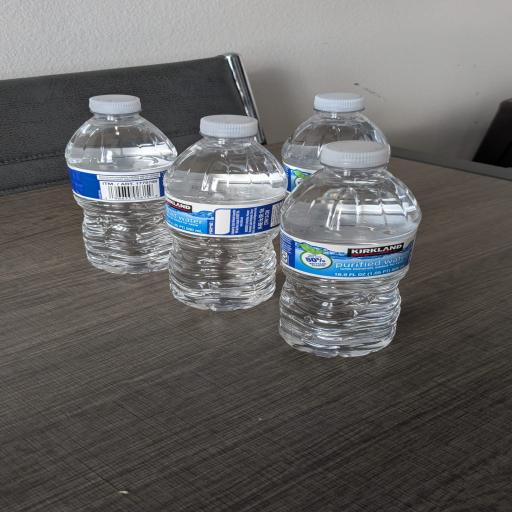waterbottle: (280, 141, 420, 356), (166, 115, 286, 310), (66, 95, 176, 273), (282, 93, 387, 191)
